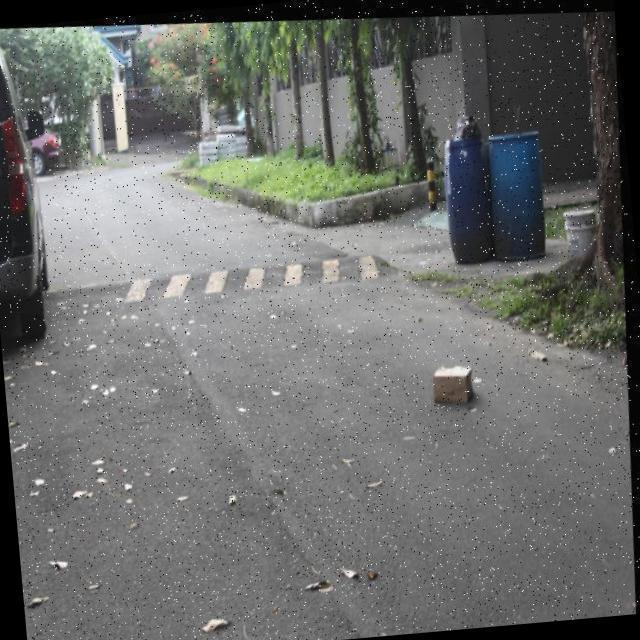Paper_Bag: (434, 356, 479, 400)
